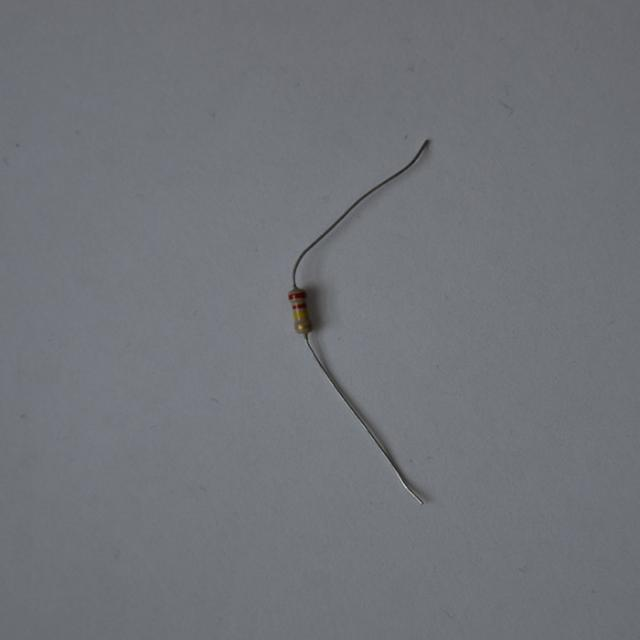gold: (296, 324, 311, 331)
red: (289, 293, 305, 300), (293, 303, 306, 309)
resistor: (282, 284, 325, 342)
yellow: (294, 313, 309, 318)
